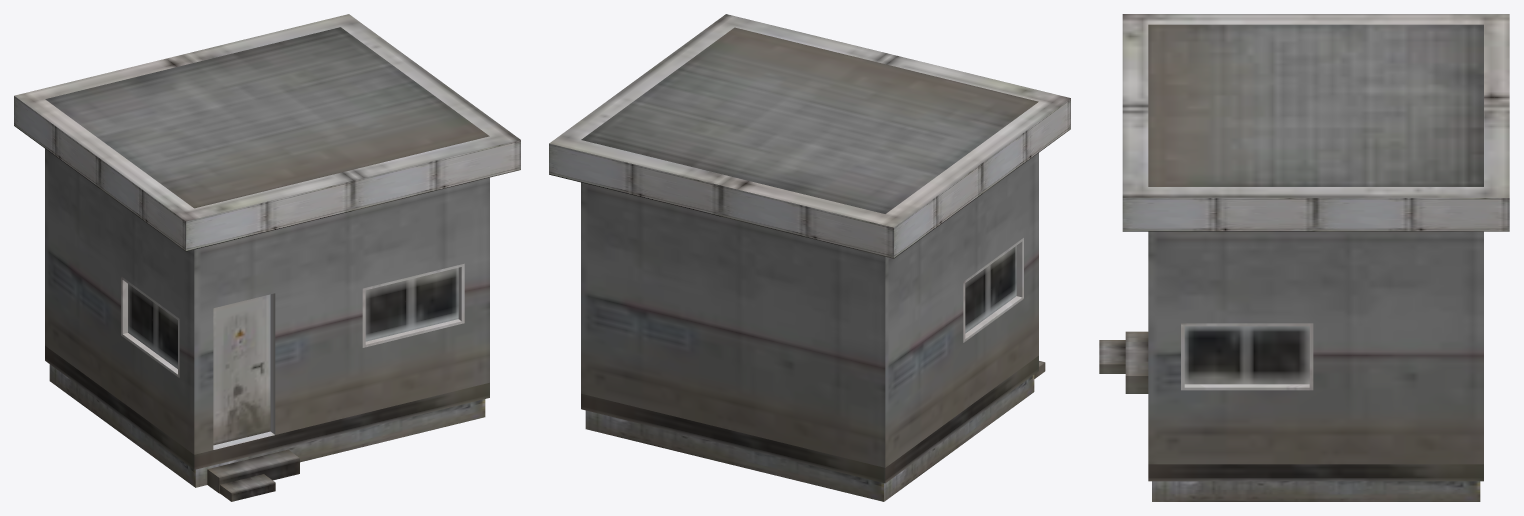
The model's file is ind-generic-2.lod1.glb.
3 renders of one model, left to right at view 1: azimuth 30°, elevation 25°; view 2: azimuth 150°, elevation 25°; view 3: azimuth 270°, elevation 25°, orthographic. The views are drawn at different scales.
Visible parts, largest first — view 1: Industrial_GenericBuilding_2_Industrial_Trim_FLR_1_Dif_0; view 2: Industrial_GenericBuilding_2_Industrial_Trim_FLR_1_Dif_0; view 3: Industrial_GenericBuilding_2_Industrial_Trim_FLR_1_Dif_0.
Boxes of the visible parts, <box> form: Industrial_GenericBuilding_2_Industrial_Trim_FLR_1_Dif_0: <box>14,14,520,501</box>; Industrial_GenericBuilding_2_Industrial_Trim_FLR_1_Dif_0: <box>549,14,1070,501</box>; Industrial_GenericBuilding_2_Industrial_Trim_FLR_1_Dif_0: <box>1099,14,1509,501</box>.
Size of the model in its own units: 4.9 by 3.93 by 4.62.
Materials: 1 (1 with a texture image).
